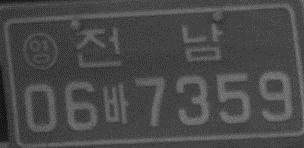0: (23, 82, 57, 133)
3: (175, 74, 210, 127)
5: (215, 72, 252, 125)
6: (63, 80, 99, 132)
7: (133, 76, 165, 126)
9: (258, 70, 293, 122)
바: (101, 82, 129, 125)
영: (21, 31, 59, 72)
전남_D: (74, 23, 222, 67)
